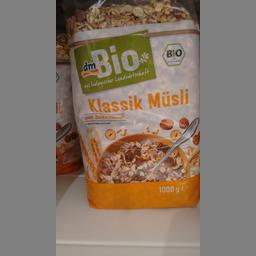cereal: (66, 1, 198, 209)
